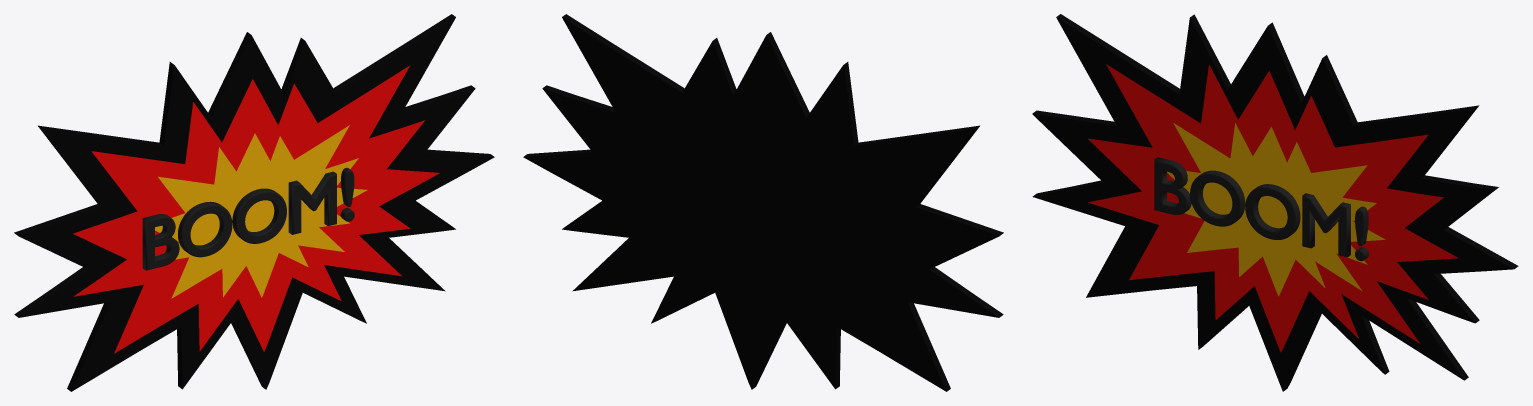
File: BOOM!.fbx
The picture shows the model from 3 angles, left to right: view 1: azimuth 30°, elevation 25°; view 2: azimuth 150°, elevation 25°; view 3: azimuth 330°, elevation 25°; orthographic projection.
Visible parts, largest first — view 1: Cube; view 2: Cube; view 3: Cube.
Part boxes in pixels (x1,y1,x2,y2): Cube: [14, 14, 494, 391]; Cube: [523, 14, 1003, 391]; Cube: [1032, 14, 1518, 391].
Bounding box in the file's own units: 747 × 537 × 22.75.
